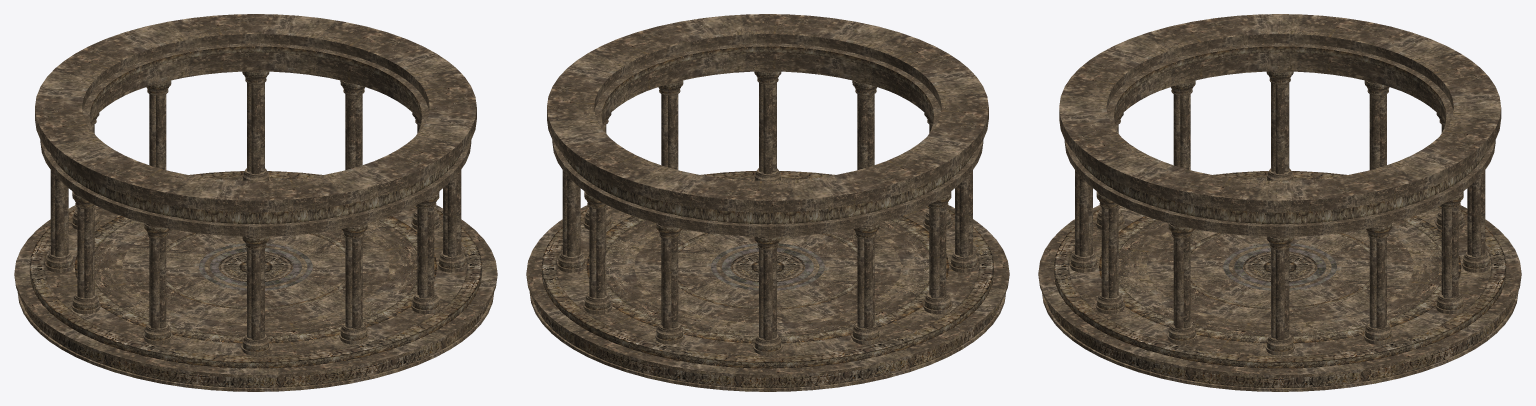
The model's file is materials_5_building_27.fbx.
The picture shows the model from 3 angles, left to right: view 1: azimuth 30°, elevation 25°; view 2: azimuth 150°, elevation 25°; view 3: azimuth 270°, elevation 25°; orthographic projection.
Parts seen in each view (by area): view 1: materials_5_building_27; view 2: materials_5_building_27; view 3: materials_5_building_27.
Boxes of the visible parts, x1,y1,x2,y2 form: materials_5_building_27: (14, 14, 497, 391); materials_5_building_27: (526, 14, 1009, 391); materials_5_building_27: (1038, 14, 1521, 391).
Size of the model in its own units: 1149 by 482 by 1149.
